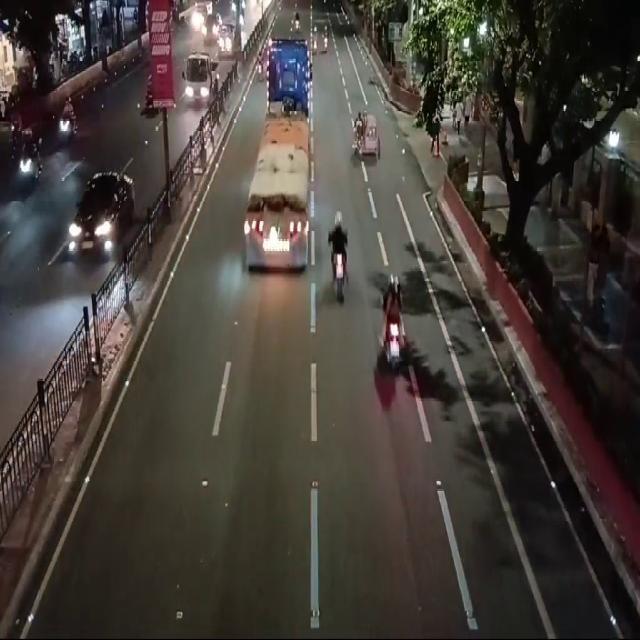car: (61, 146, 147, 278)
motorcycle: (370, 272, 421, 383), (322, 200, 359, 308), (352, 94, 386, 168)
truck: (238, 37, 313, 280), (180, 46, 224, 117)
